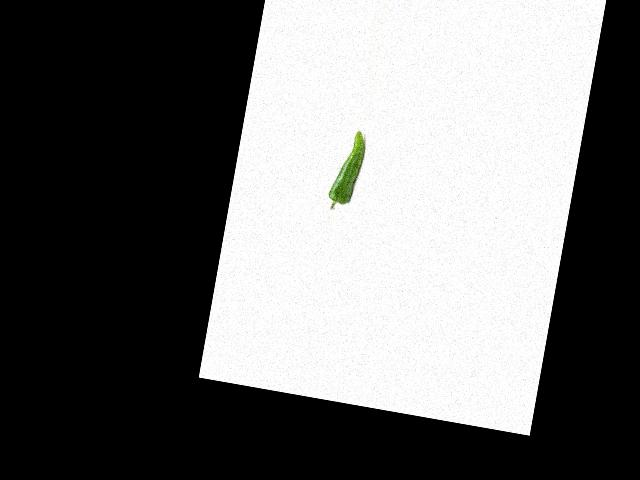bell_pepper: (324, 127, 369, 216)
